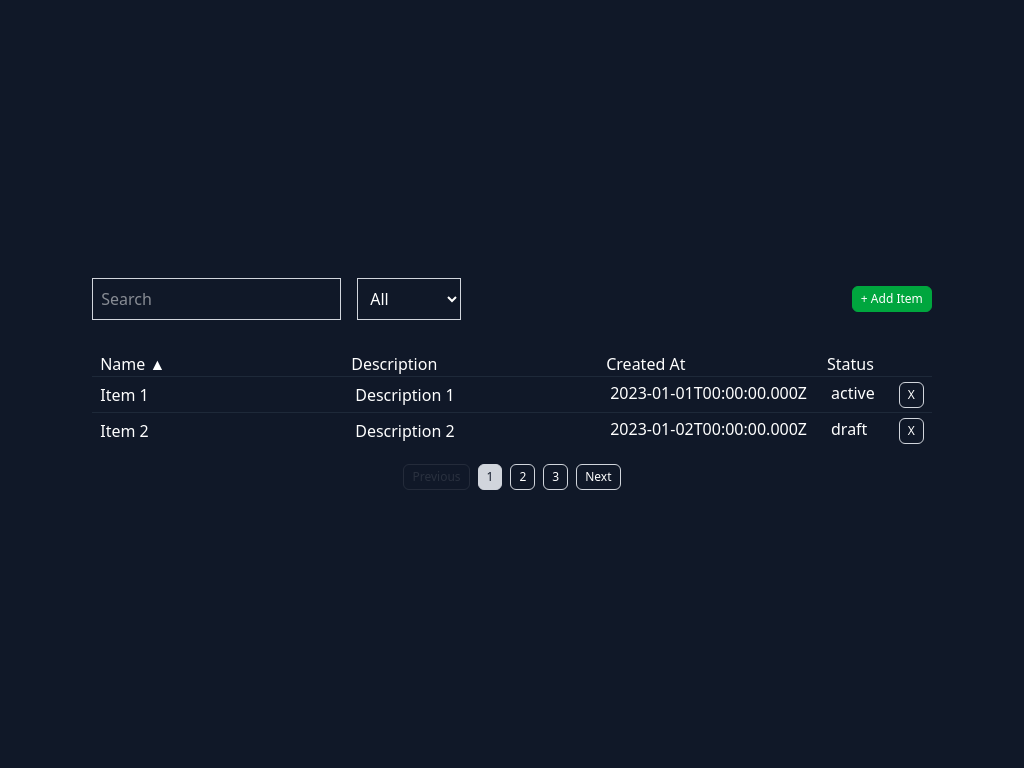
PaginatedList Component - Optimistic Updates and Pagination › should handle item deletion failure
This screenshot has width=1024, height=768.
# Click delete button on first item
What coordinates should you click on to do the following:
click the button "X" next to "active"
I would click on:
 (911, 395)
Its box is top-left (899, 382), bottom-right (924, 408).
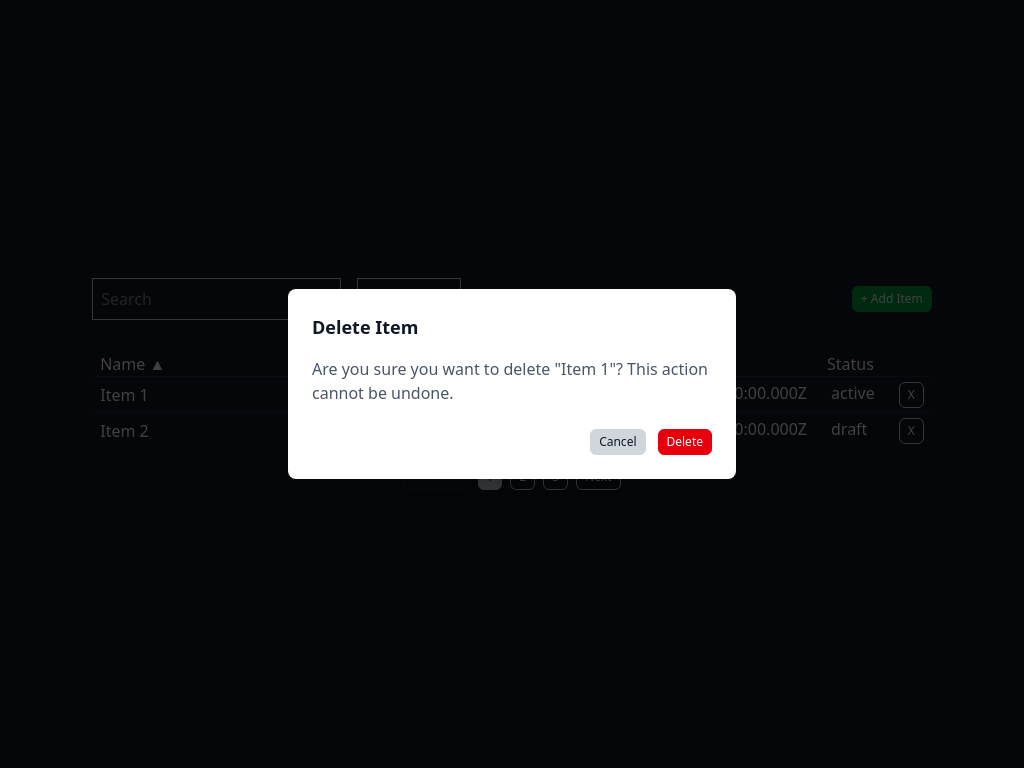
# Confirm deletion
What coordinates should you click on to do the following:
click the button "Delete"
I would click on:
 (685, 442)
Its box is top-left (658, 429), bottom-right (712, 455).
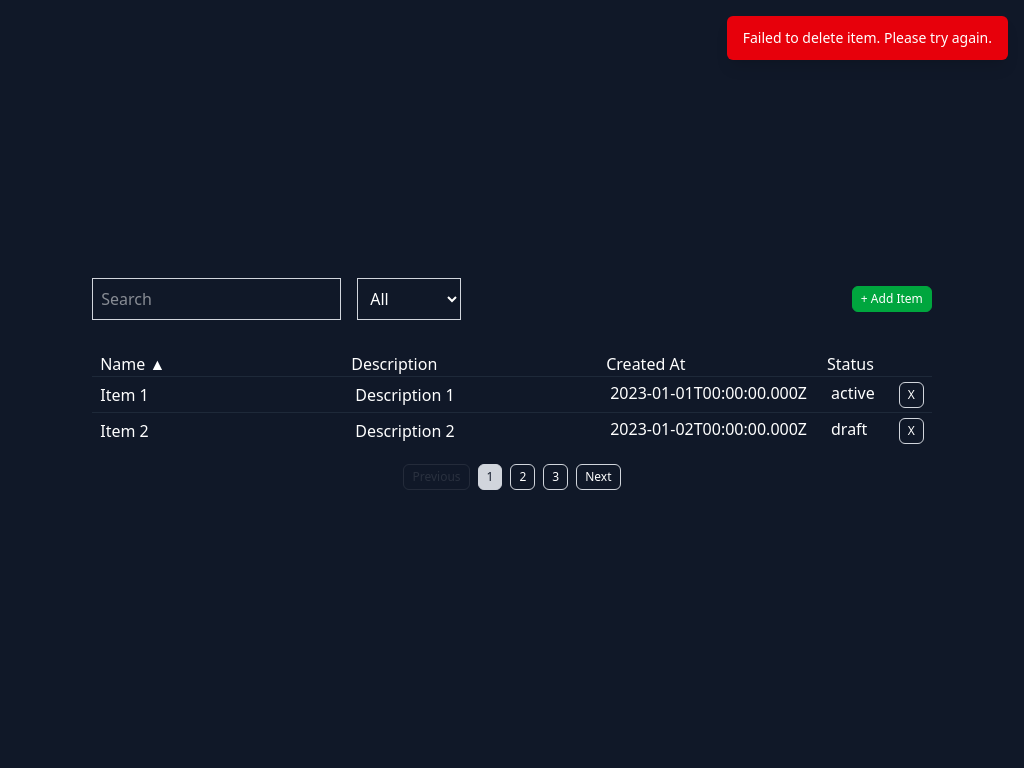
Check: the 1st field showing "Item 1" is shown, box top-left (92, 381), bottom-right (339, 408)
Check: the text "Failed to delete item. Please try again." is shown, box top-left (727, 16), bottom-right (1008, 60)
